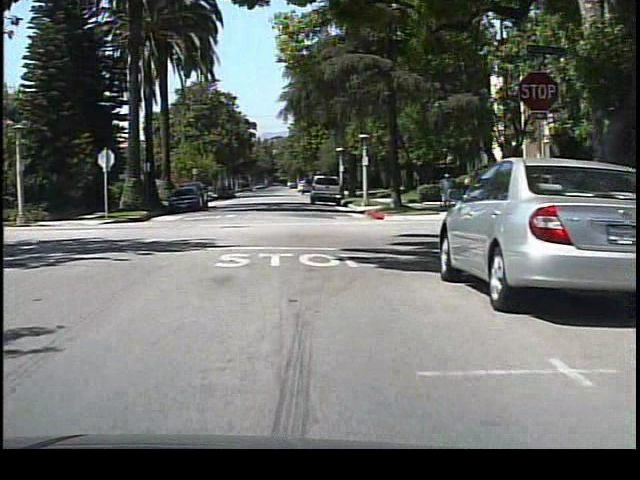person: (433, 167, 457, 214)
